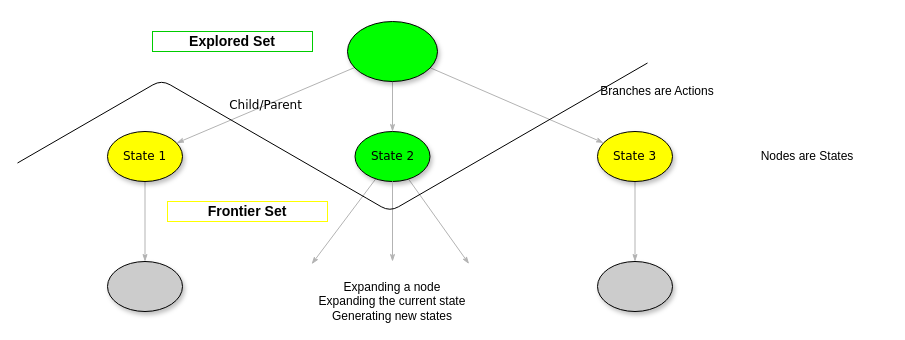
Image size: 905x340. Some labels were removed from this diagram. Each missing label, with the centre of its shape:
"Initial State" belongs at point 393,52.
"State 4" belongs at point 145,287.
"State 8" belongs at point 635,287.
